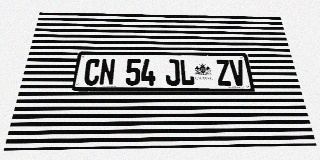4: (141, 59, 155, 86)
5: (125, 59, 141, 86)
C: (83, 58, 101, 85)
J: (165, 59, 180, 86)
L: (179, 59, 195, 86)
N: (99, 59, 116, 85)
V: (229, 60, 247, 86)
Z: (215, 60, 232, 86)
